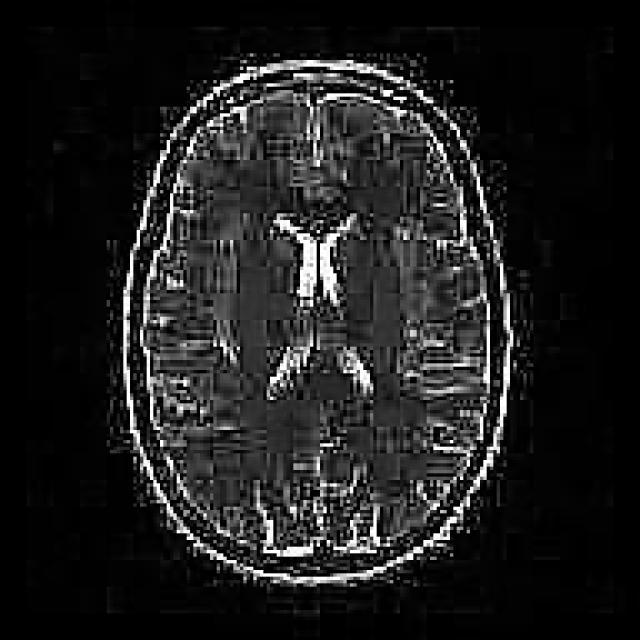notumor: (123, 60, 513, 583)
